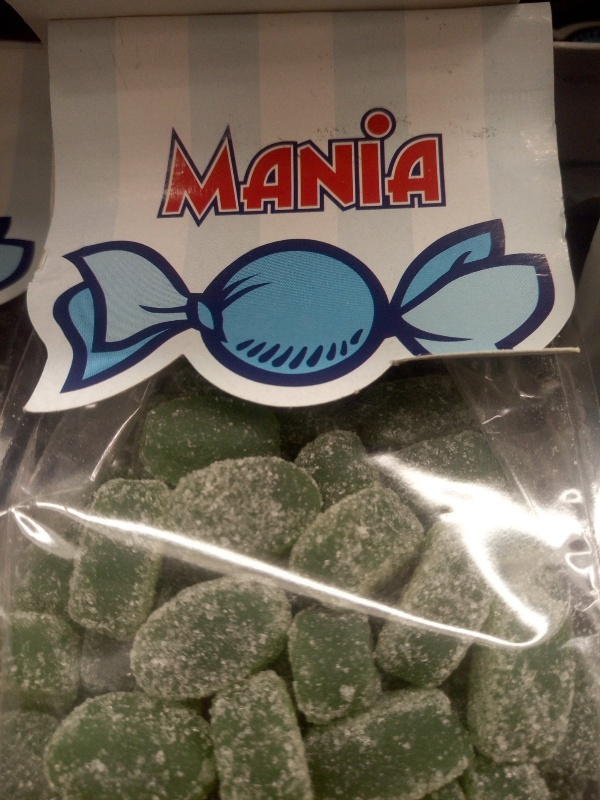text: (177, 103, 192, 229), (193, 103, 208, 229), (209, 103, 224, 229), (225, 103, 240, 229), (241, 103, 256, 229), (257, 103, 272, 229), (273, 103, 288, 229), (289, 103, 304, 229), (305, 103, 320, 229), (321, 103, 336, 229), (337, 103, 352, 229), (353, 103, 368, 229), (369, 103, 384, 229), (385, 103, 400, 229), (401, 103, 416, 229), (417, 103, 432, 229), (433, 103, 448, 229), (168, 103, 176, 229)
